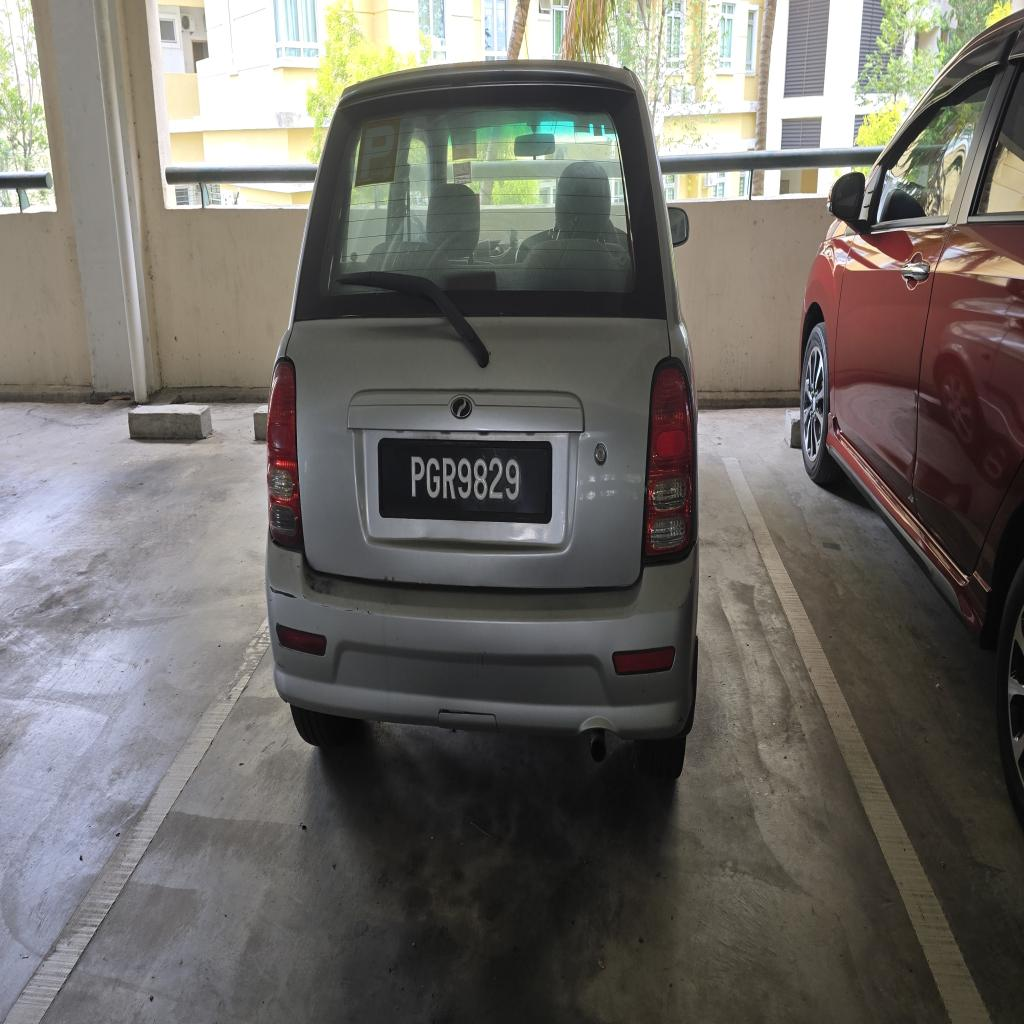car: (266, 61, 697, 778)
car plate: (379, 439, 551, 522)
